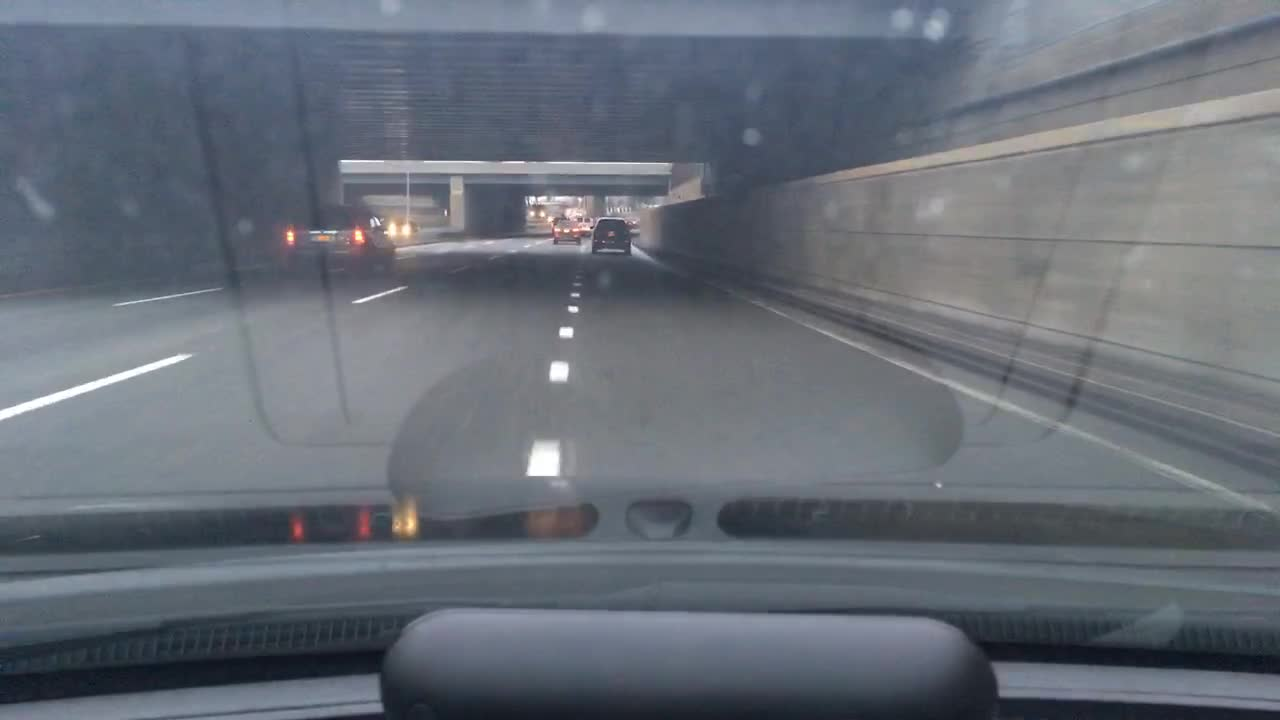car: (285, 202, 395, 275), (591, 217, 631, 254), (552, 218, 580, 245), (387, 218, 418, 235), (548, 214, 568, 235), (575, 221, 591, 237), (625, 216, 642, 229), (577, 213, 593, 225)
